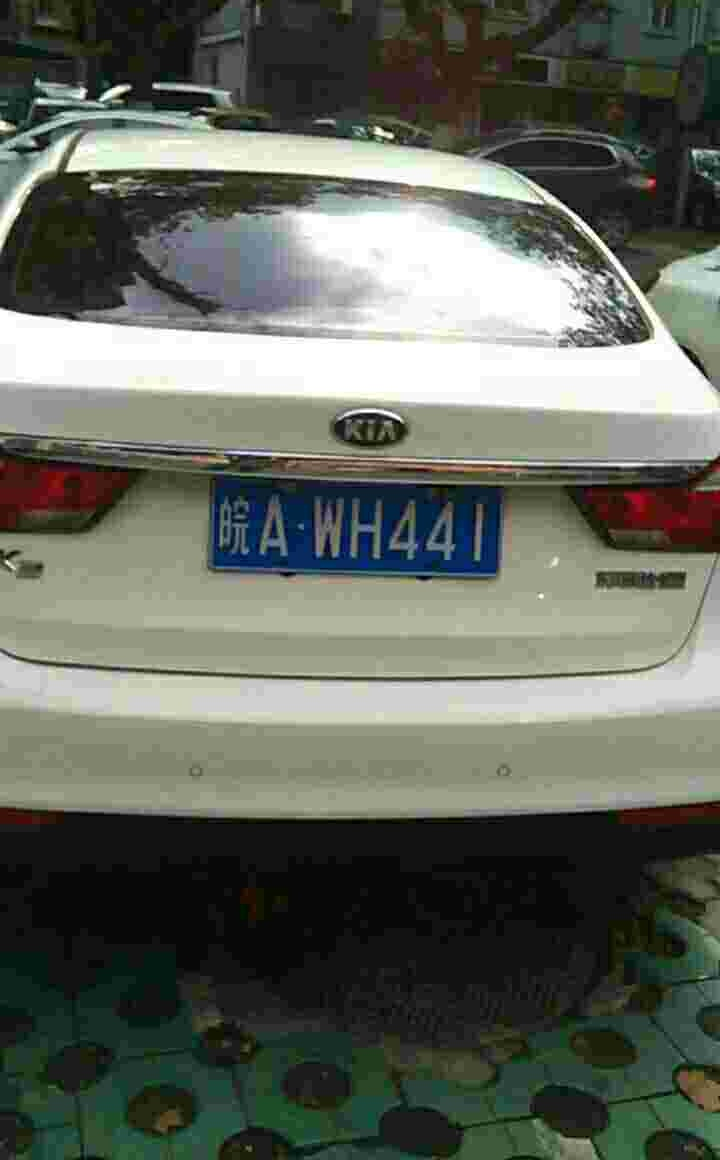license_plate: (209, 485, 502, 584)
